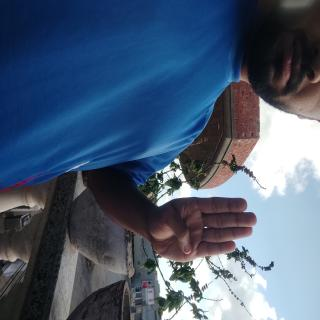KAAF: (143, 81, 205, 240)
